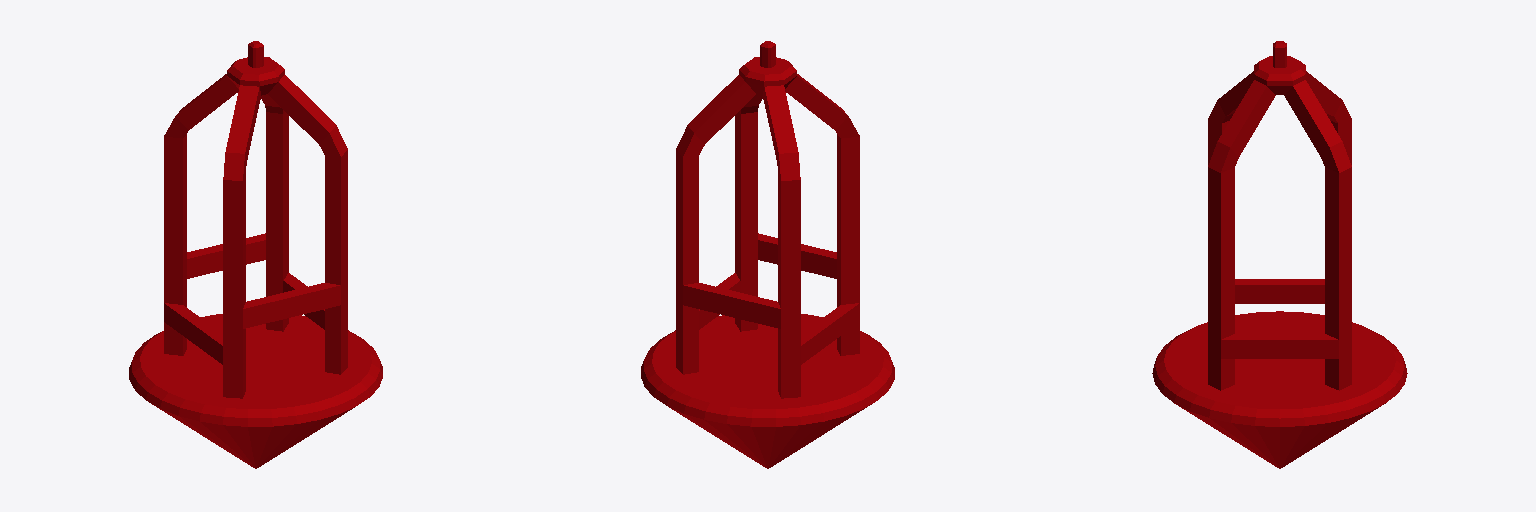
Rendered from bouy.obj.
The picture shows the model from 3 angles: view 1: azimuth 30°, elevation 25°; view 2: azimuth 150°, elevation 25°; view 3: azimuth 270°, elevation 25°; orthographic projection.
Visible parts, largest first — view 1: Конус; view 2: Конус; view 3: Конус.
Boxes of the visible parts, x1,y1,x2,y2 form: Конус: [129, 41, 382, 468]; Конус: [641, 41, 894, 468]; Конус: [1152, 41, 1407, 468].
Size of the model in its own units: 3.09 by 5.7 by 3.09.